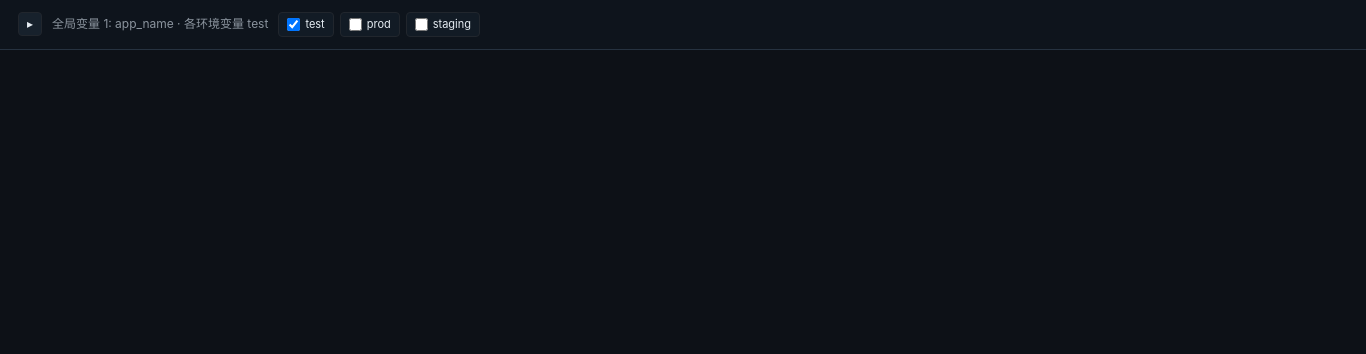
PipelineEnvMatrix › shows single-column matrix when single environment
Click the button with test id "env-matrix-toggle".
click(30, 24)  # box [18,12,42,36]
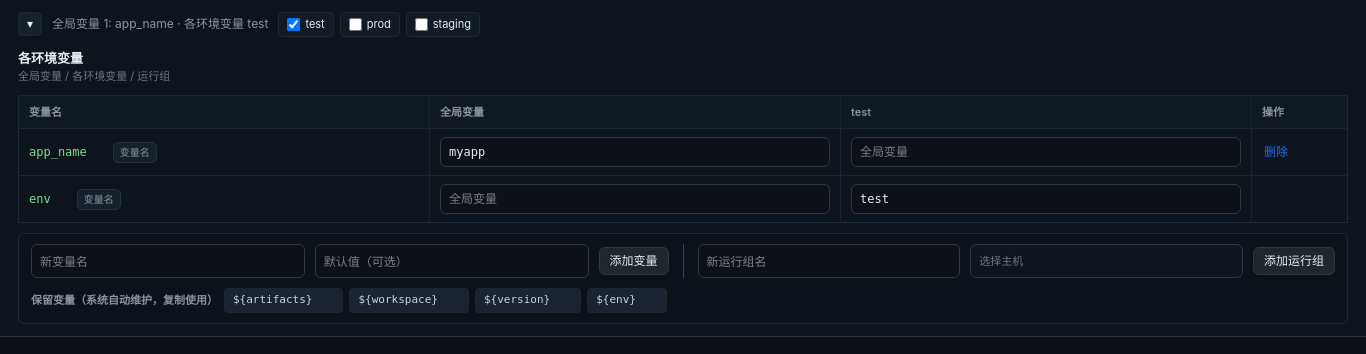
Expected: the element with test id "env-matrix" is shown
Expected: the column heading with test id "env-col-test" is shown, [840,95,1252,128]
